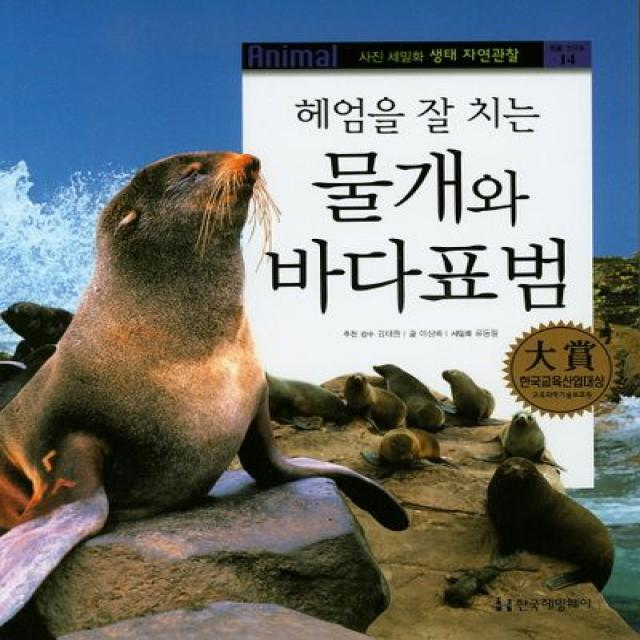WaterDog: (13, 147, 284, 520), (488, 454, 631, 596), (505, 410, 567, 470)
